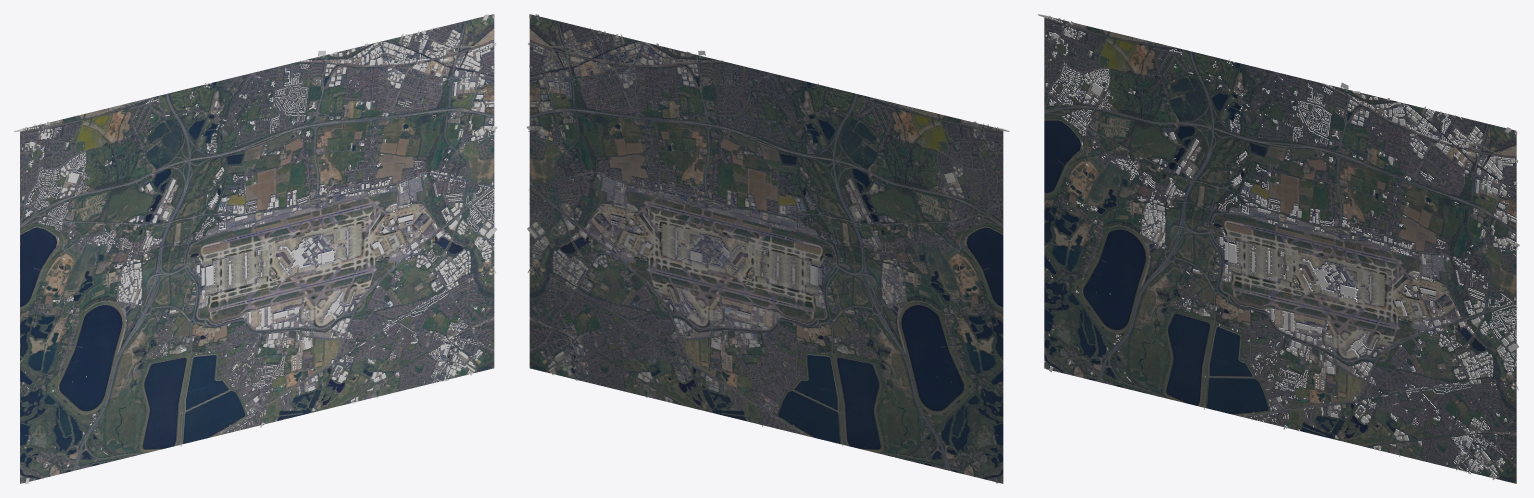
The model's file is london_heathrow_lhr_3d_model.fbx.
The picture shows the model from 3 angles, left to right: view 1: azimuth 30°, elevation 25°; view 2: azimuth 150°, elevation 25°; view 3: azimuth 330°, elevation 25°; orthographic projection.
Parts seen in each view (by area): view 1: EXPORT_GOOGLE_SAT_WM_1, Areas:building_2; view 2: EXPORT_GOOGLE_SAT_WM_1; view 3: EXPORT_GOOGLE_SAT_WM_1, Areas:building_2.
Part boxes in pixels (x1=…): EXPORT_GOOGLE_SAT_WM_1: x1=20, y1=14, x2=494, y2=483; Areas:building_2: x1=14, y1=14, x2=497, y2=483; EXPORT_GOOGLE_SAT_WM_1: x1=529, y1=14, x2=1003, y2=483; EXPORT_GOOGLE_SAT_WM_1: x1=1044, y1=16, x2=1516, y2=483; Areas:building_2: x1=1038, y1=14, x2=1519, y2=479.
Size of the model in its own units: 17450 by 12512 by 86.87.
2 materials, 1 textured.
